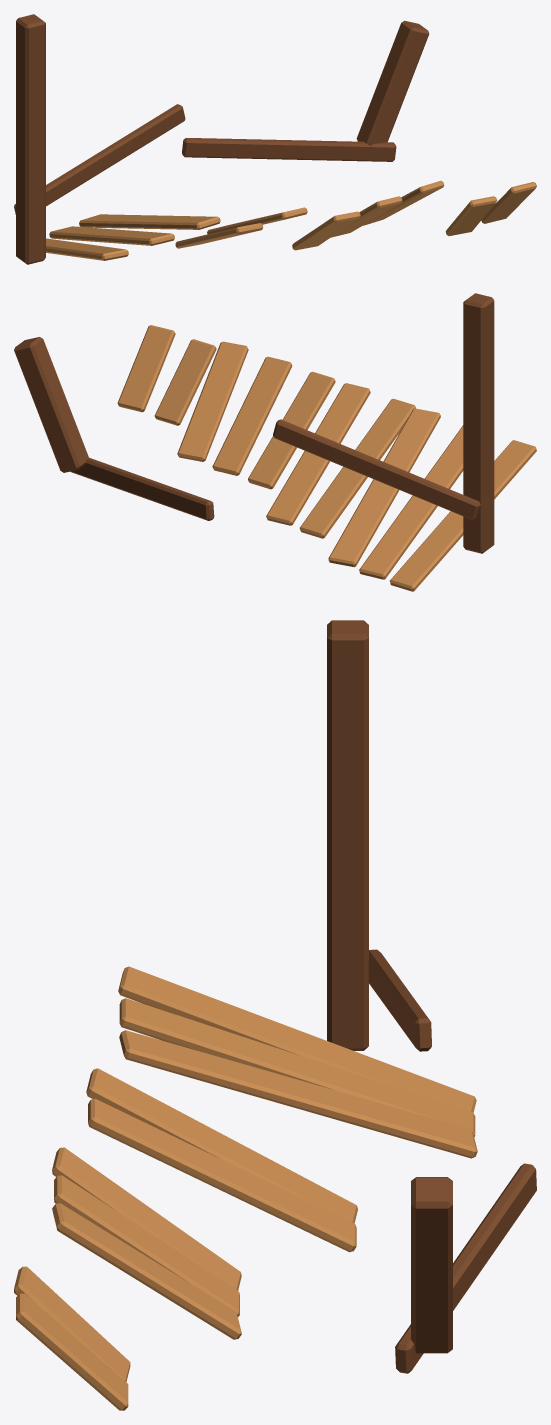
File: fnc_panel_a_broken.glb
3 renders of one model, top to bottom at view 1: azimuth 30°, elevation 25°; view 2: azimuth 150°, elevation 25°; view 3: azimuth 270°, elevation 25°, orthographic. The views are drawn at different scales.
Parts seen in each view (by area): view 1: fnc_panel_a_chunk_01, fnc_panel_a_chunk_05, fnc_panel_a_chunk_04, fnc_panel_a_chunk_02, fnc_panel_a_chunk_03, fnc_panel_a_chunk_07, fnc_panel_a_chunk_08, fnc_panel_a_chunk_06; view 2: fnc_panel_a_chunk_05, fnc_panel_a_chunk_07, fnc_panel_a_chunk_01, fnc_panel_a_chunk_06, fnc_panel_a_chunk_08, fnc_panel_a_chunk_03, fnc_panel_a_chunk_02, fnc_panel_a_chunk_04; view 3: fnc_panel_a_chunk_05, fnc_panel_a_chunk_01, fnc_panel_a_chunk_06, fnc_panel_a_chunk_07, fnc_panel_a_chunk_02, fnc_panel_a_chunk_08, fnc_panel_a_chunk_04, fnc_panel_a_chunk_03.
Part boxes in pixels (x1,y1,x2,y2): fnc_panel_a_chunk_01: (16, 14, 45, 264); fnc_panel_a_chunk_05: (46, 214, 220, 260); fnc_panel_a_chunk_04: (182, 138, 396, 161); fnc_panel_a_chunk_02: (356, 20, 429, 145); fnc_panel_a_chunk_03: (14, 104, 185, 214); fnc_panel_a_chunk_07: (292, 180, 444, 250); fnc_panel_a_chunk_08: (445, 182, 536, 235); fnc_panel_a_chunk_06: (175, 207, 307, 248); fnc_panel_a_chunk_05: (328, 408, 536, 591); fnc_panel_a_chunk_07: (177, 341, 335, 489); fnc_panel_a_chunk_01: (463, 293, 494, 553); fnc_panel_a_chunk_06: (266, 383, 415, 538); fnc_panel_a_chunk_08: (117, 325, 216, 425); fnc_panel_a_chunk_03: (273, 419, 480, 520); fnc_panel_a_chunk_02: (14, 337, 88, 472); fnc_panel_a_chunk_04: (70, 457, 214, 520); fnc_panel_a_chunk_05: (118, 966, 477, 1158); fnc_panel_a_chunk_01: (327, 620, 368, 1050); fnc_panel_a_chunk_06: (86, 1068, 357, 1252); fnc_panel_a_chunk_07: (52, 1147, 241, 1339); fnc_panel_a_chunk_02: (411, 1177, 452, 1353); fnc_panel_a_chunk_08: (14, 1266, 130, 1410); fnc_panel_a_chunk_04: (395, 1163, 536, 1373); fnc_panel_a_chunk_03: (368, 949, 431, 1051).
Size of the model in its own units: 2.06 by 1.22 by 1.25.
